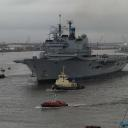Portanaves: (12, 10, 128, 87)
